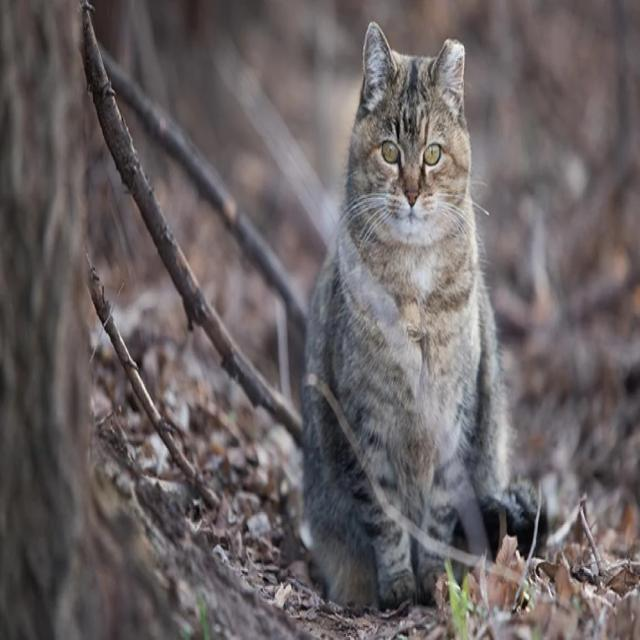cat: (306, 22, 536, 555), (301, 387, 444, 606)
